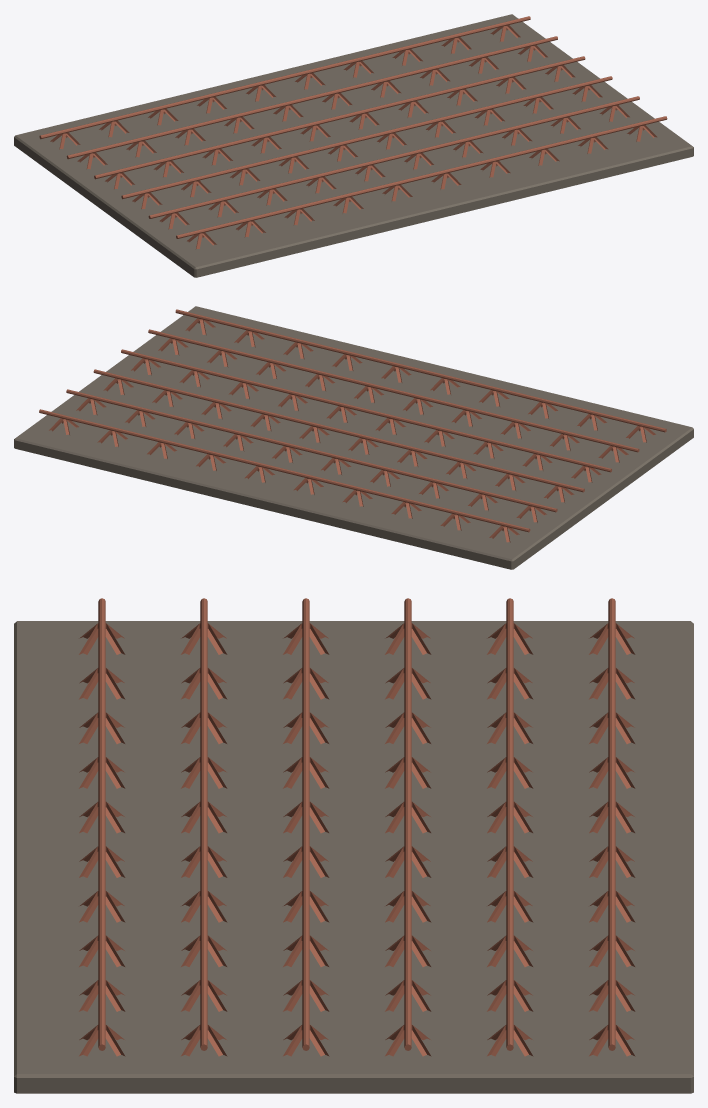
3 renders of one model, top to bottom at view 1: azimuth 30°, elevation 25°; view 2: azimuth 150°, elevation 25°; view 3: azimuth 270°, elevation 25°, orthographic. The views are drawn at different scales.
Visible parts, largest first — view 1: Decke1; view 2: Decke1; view 3: Decke1.
Boxes of the visible parts, left/top/right/bottom form: Decke1: left=14, top=14, right=693, bottom=277; Decke1: left=14, top=306, right=693, bottom=569; Decke1: left=14, top=598, right=693, bottom=1093.
Bounding box in the file's own units: 3.17 × 0.146 × 2.
